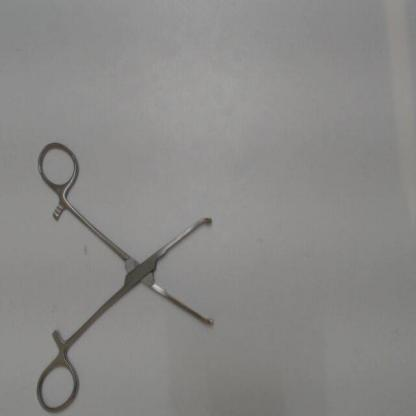Allis Tissue Forceps: (31, 137, 224, 414)
